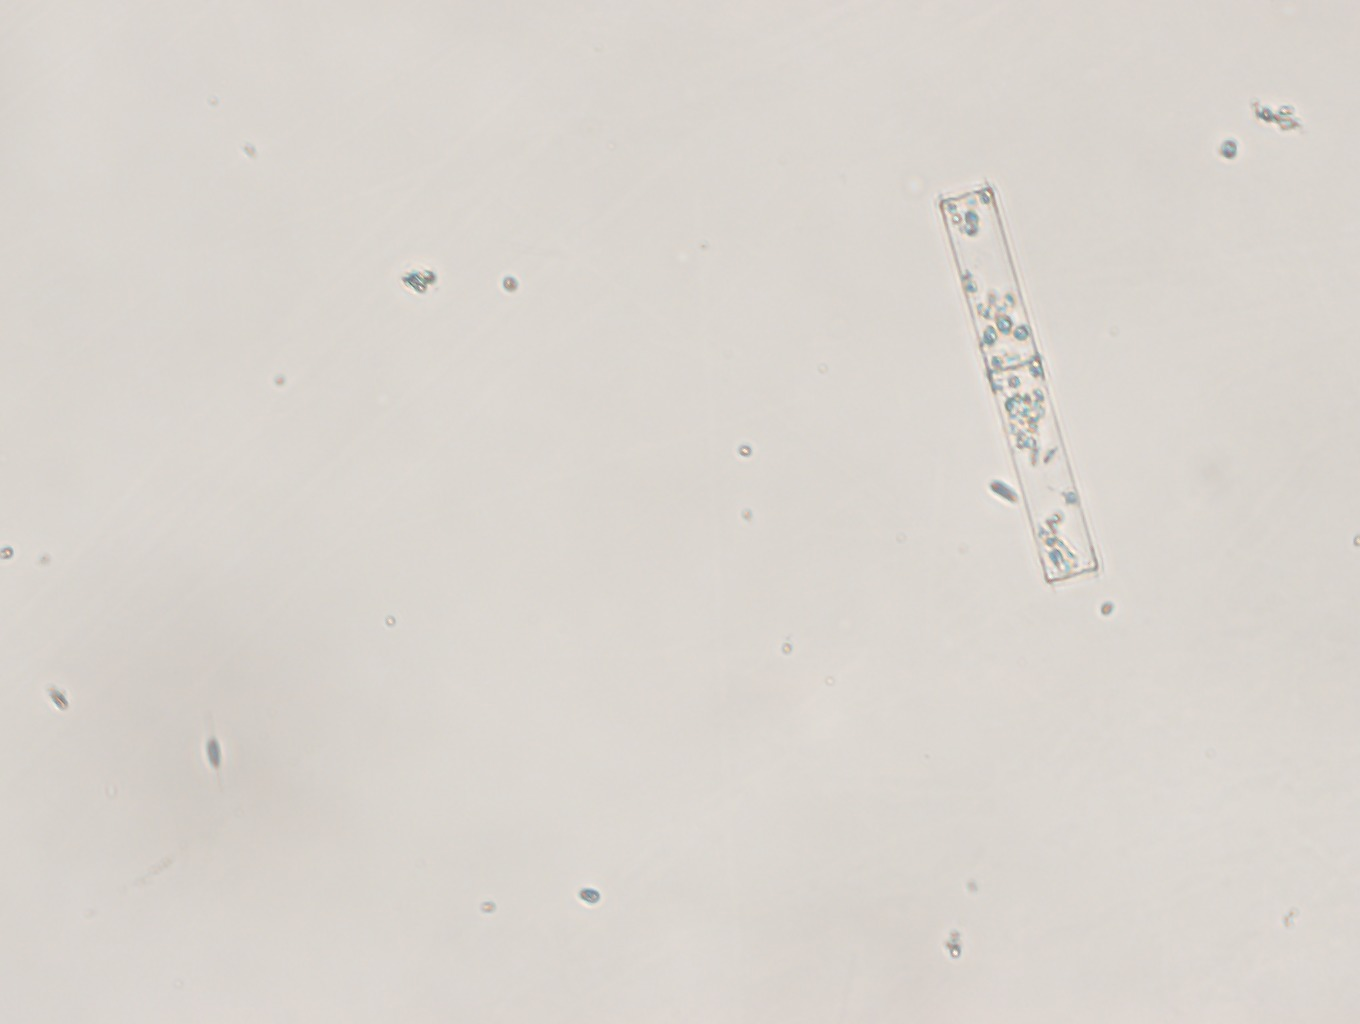guinardia flaccida: (926, 177, 1111, 591)
